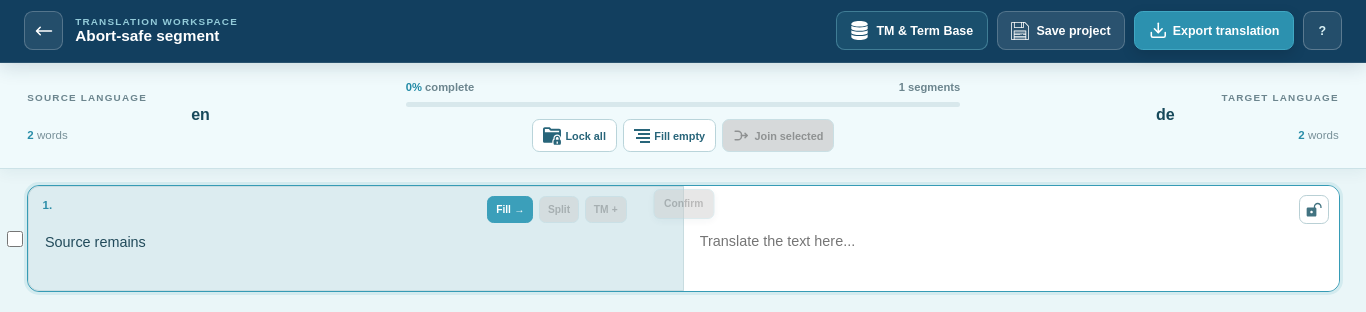
real CAT application route › does not publish a segment fill when its transaction aborts
Expected: the element showing "Fill → Split TM + 1. Source remains Confirm" is shown, [27,185,1341,292]
Click the button "Fill →": (511, 210) [488,196,534,223]
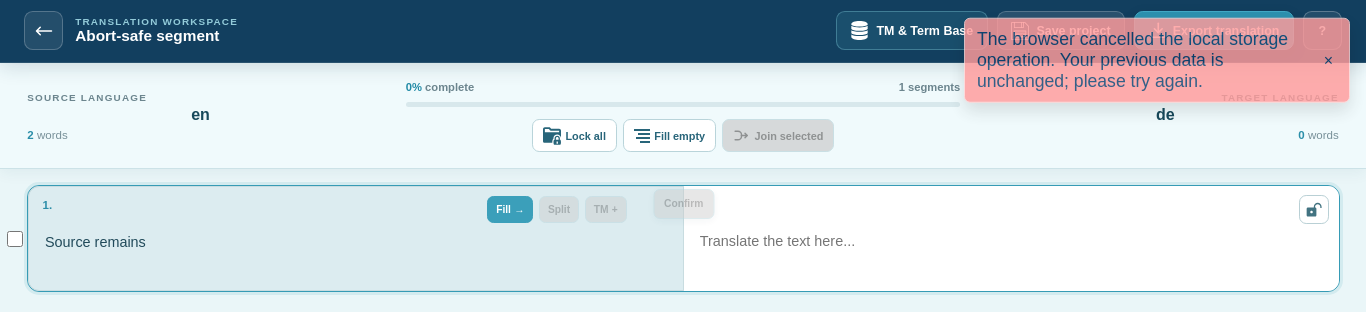
Expected: the text "previous data is unchanged" is shown, [977,28,1288,90]
